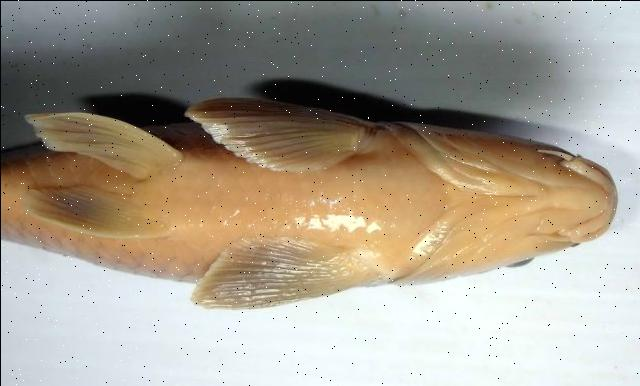Mulut: (550, 126, 634, 262)
Sirip Dada: (186, 235, 391, 311), (190, 95, 372, 171)
Sirip Perut: (22, 110, 177, 182), (20, 183, 163, 237)
